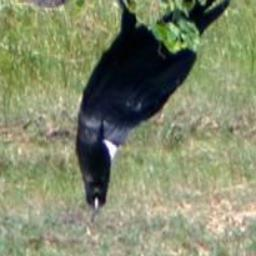Crow: (72, 0, 235, 215)
